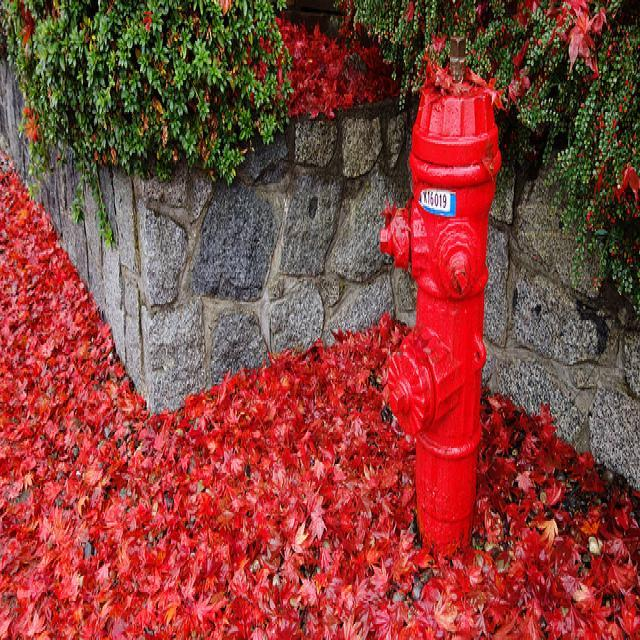fire_hydrant: (381, 83, 500, 568)
